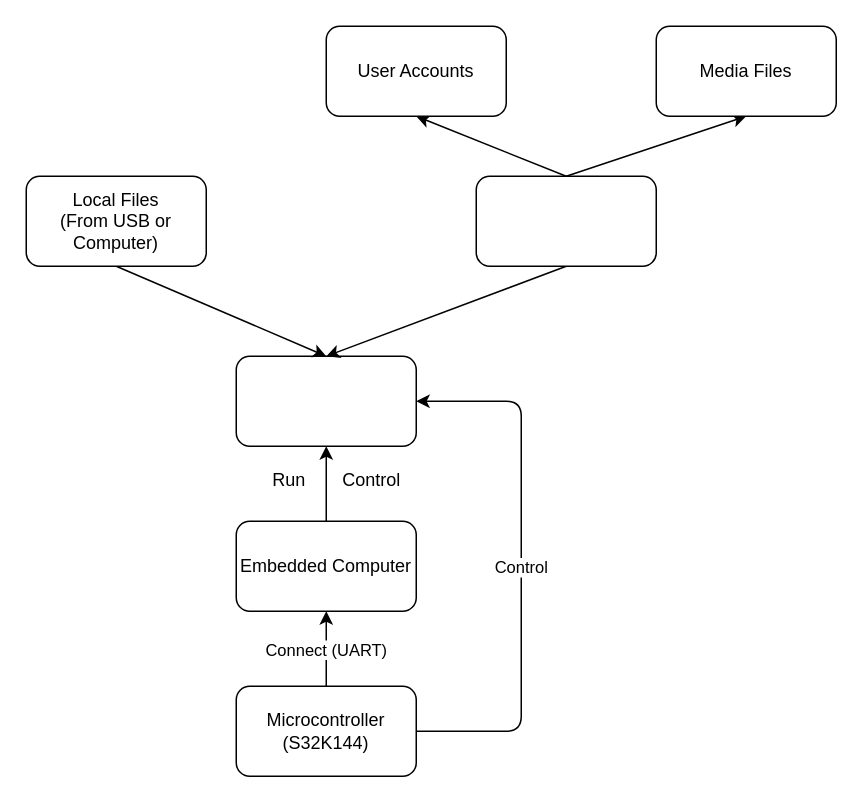
The diagram is 863 pixels wide and 803 high, and some of its shapes have lost their labels. Each missing label, with the centre of its shape:
"Database" belongs at (x=565, y=220).
"Media Player" belongs at (x=325, y=400).
